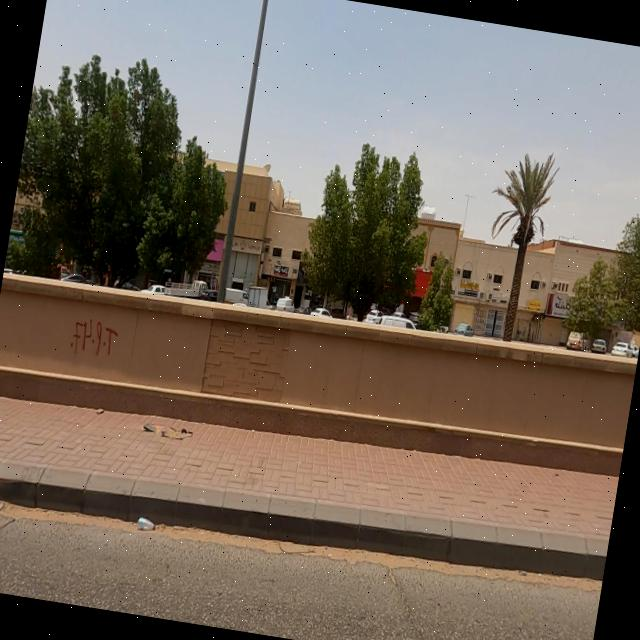Graffiti: (69, 319, 120, 363)
